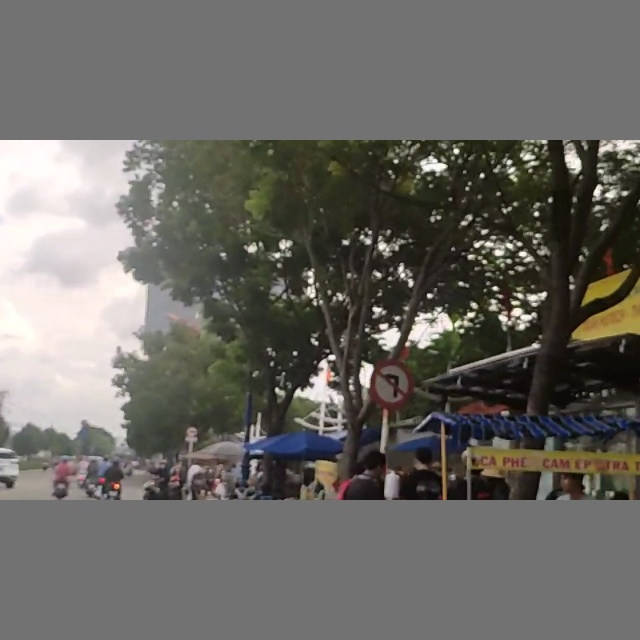P.123a: (373, 361, 410, 404)
